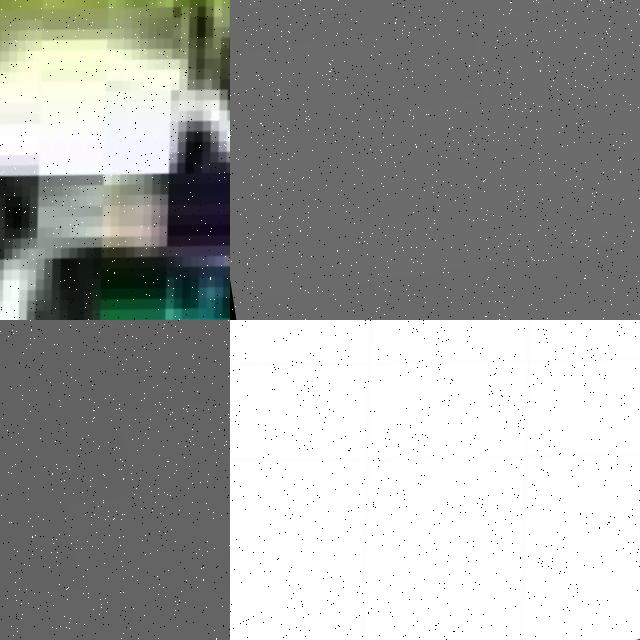drone: (230, 320, 640, 640), (0, 0, 230, 320)
